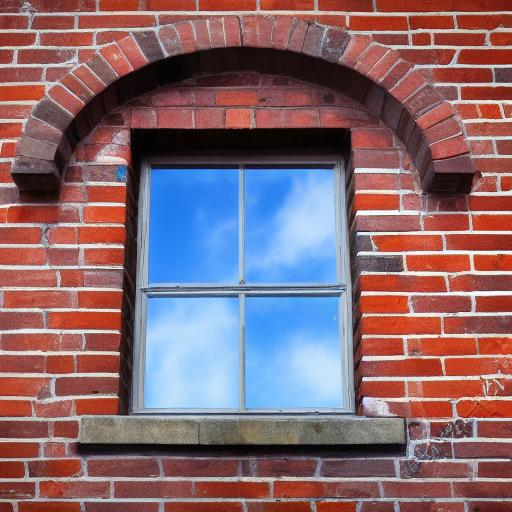Window: (9, 11, 480, 455)
